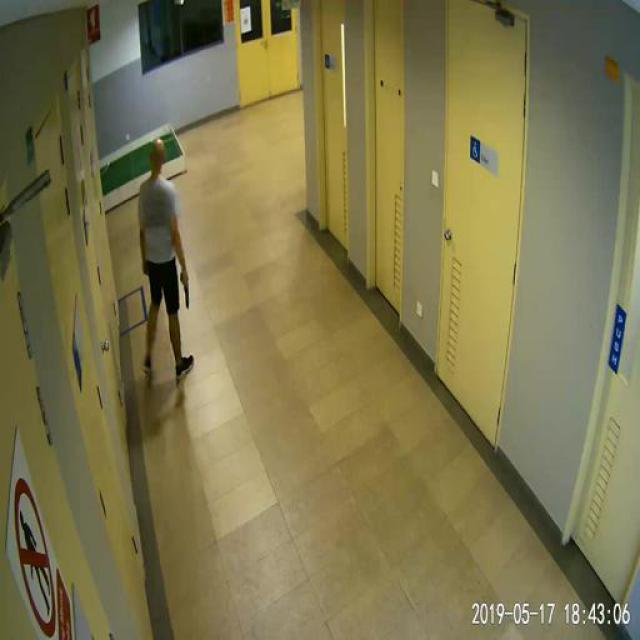Gun: (179, 270, 189, 306)
